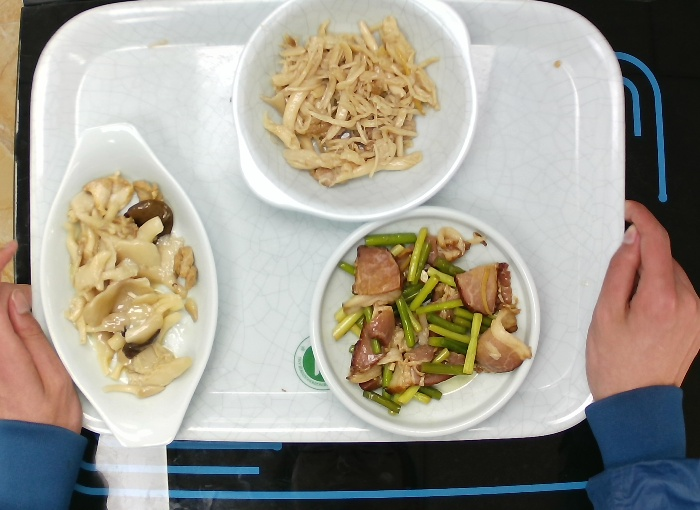JYsf-Shuang_Er_Wan: (231, 1, 477, 222)
JYsf-Xiao_Yuan_Pan: (309, 203, 541, 438)
JYsf-Yu_Pan: (36, 119, 219, 447)
